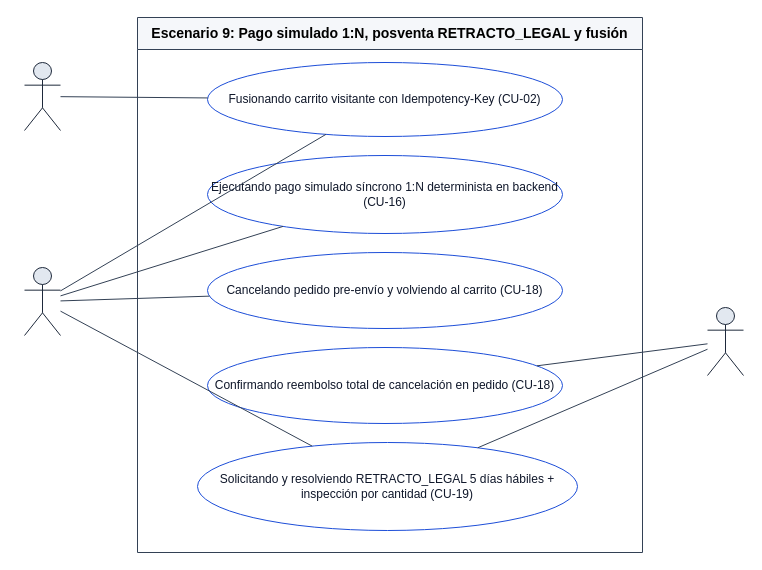
Some shapes in this 762 by 570 pixel diagram are drawn without their labels. The shapes that lost their labels are listed below. From the top down, each one's box as (x1, y1, x2, y2) in pixels, then its label:
(24, 62, 60, 130): Visitante
(24, 266, 60, 336): CLIENTE
(706, 306, 744, 376): ADMIN
